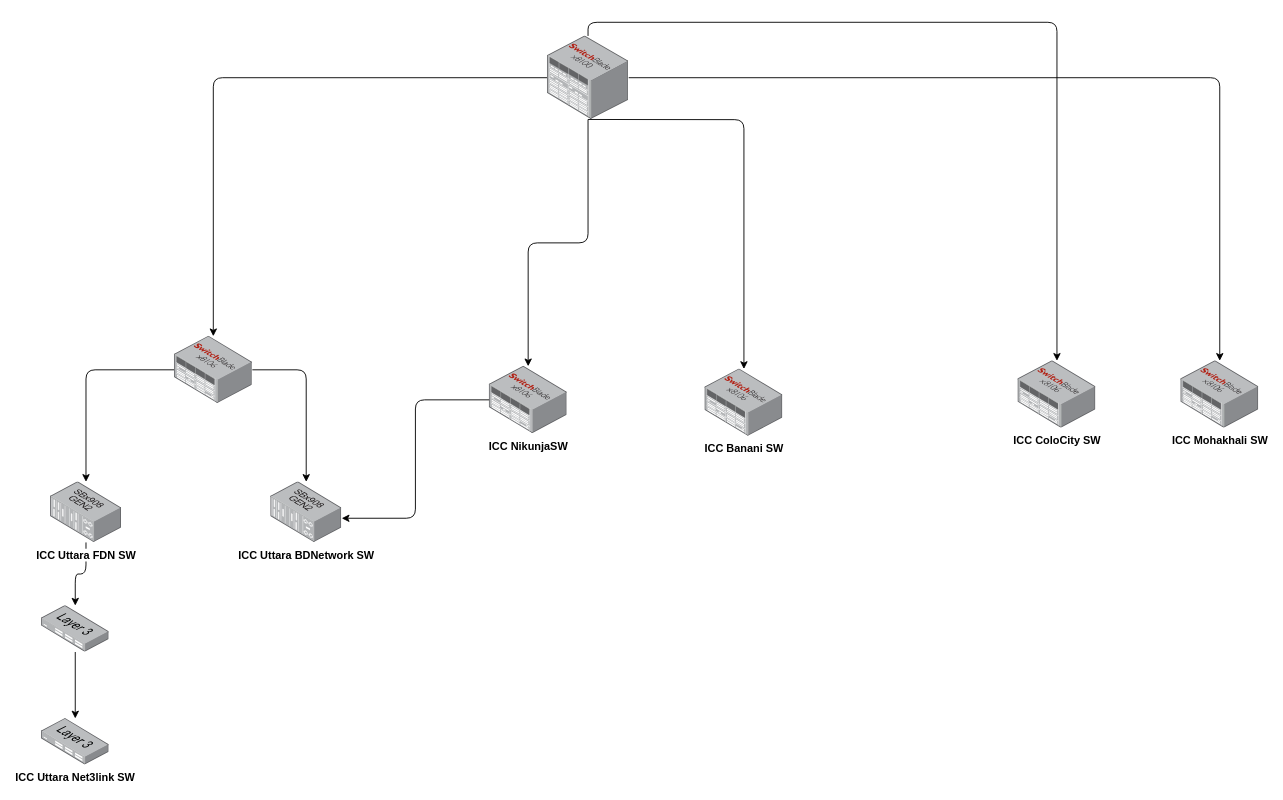
The diagram is 1283 pixels wide and 800 high, and some of its shapes have lost their labels. The shapes that lost their labels are listed below. From the top down, each one's centre as x and y in pixels, then its label:
At pixel 587 77: "ICC JR SW3".
At pixel 213 369: "ICC Uttara AN SW".
At pixel 75 628: "ICC Ashkona SW".
